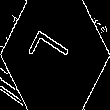L_SE: (29, 29, 81, 81)
